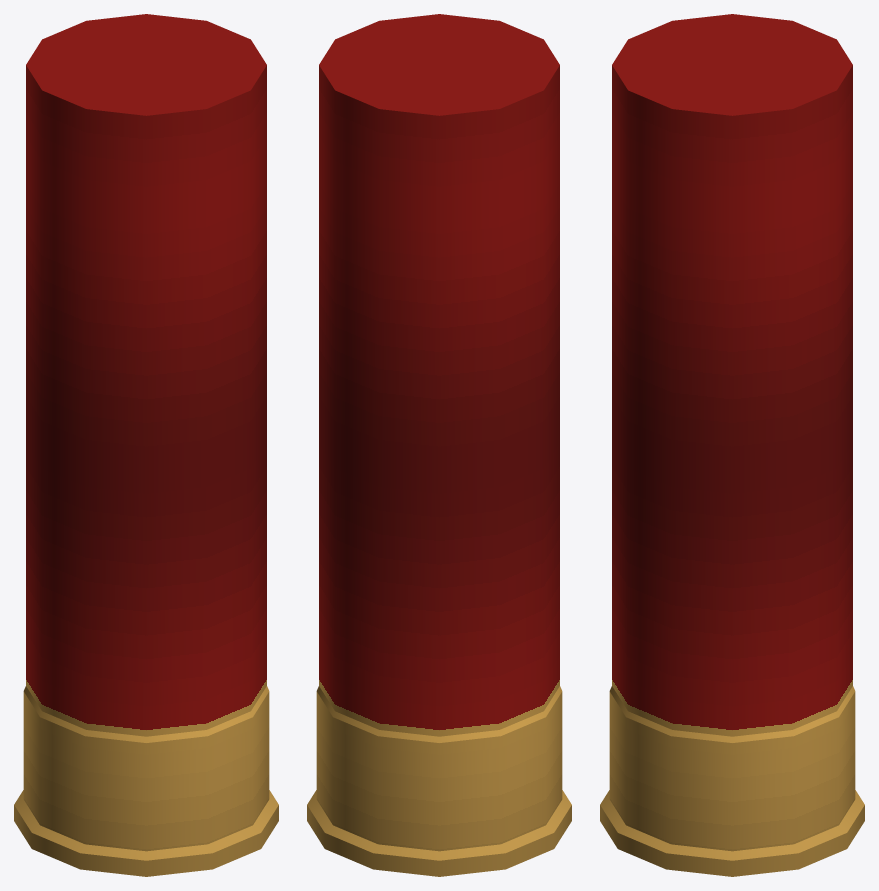
Rendered from shotshell.gltf.
The picture shows the model from 3 angles, left to right: view 1: azimuth 30°, elevation 25°; view 2: azimuth 150°, elevation 25°; view 3: azimuth 270°, elevation 25°; orthographic projection.
Visible parts, largest first — view 1: shotshell; view 2: shotshell; view 3: shotshell.
Boxes of the visible parts, bbox=[...] form: shotshell: bbox=[14, 14, 278, 876]; shotshell: bbox=[307, 14, 571, 876]; shotshell: bbox=[600, 14, 864, 876].
Size of the model in its own units: 0.0222 by 0.0699 by 0.0222.
Materials: 1 (1 with a texture image).
